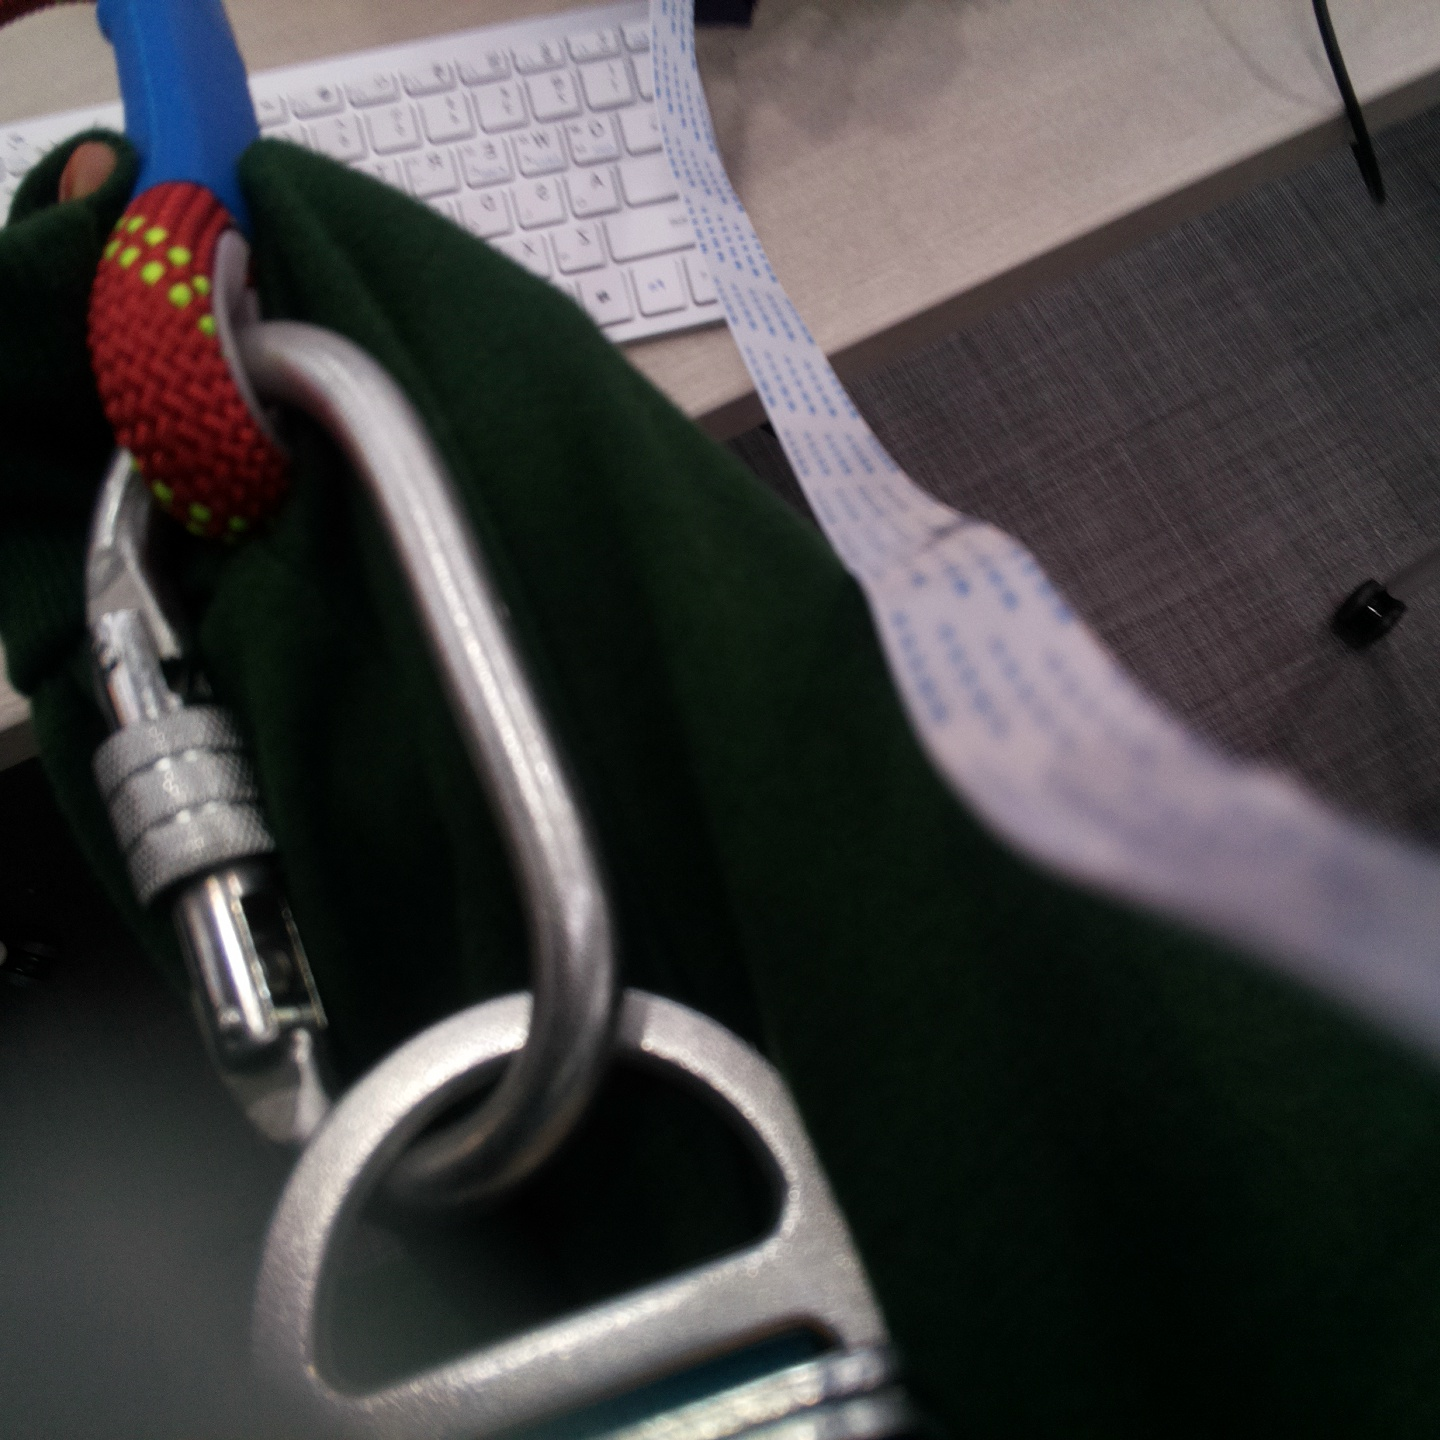SUCCESS: (78, 562, 615, 975)
